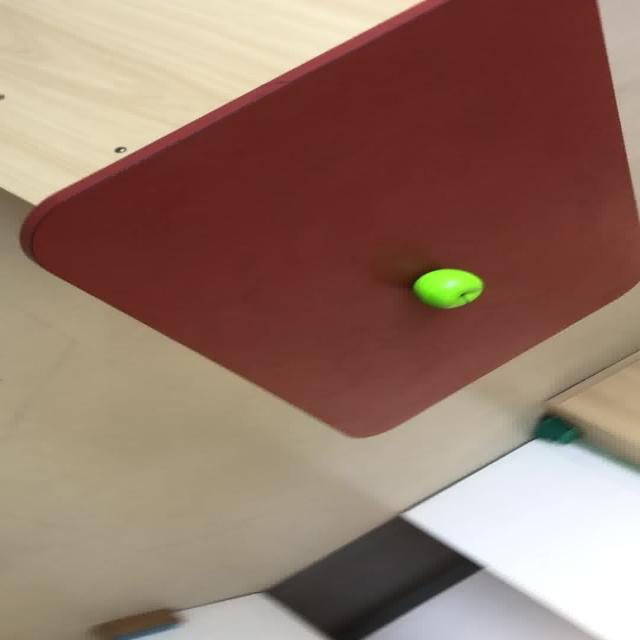apple: (411, 268, 484, 309)
